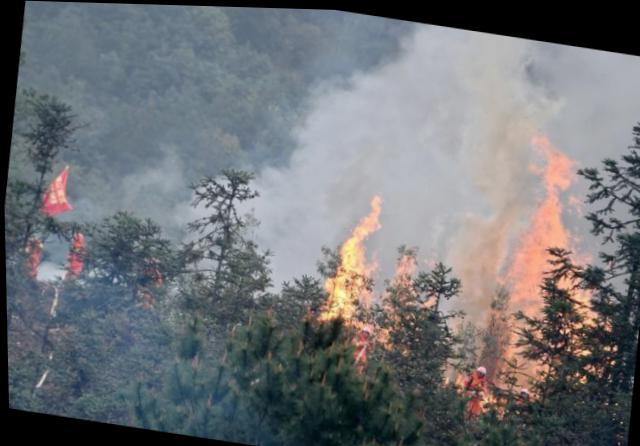fire: (435, 131, 614, 416), (291, 178, 434, 350)
